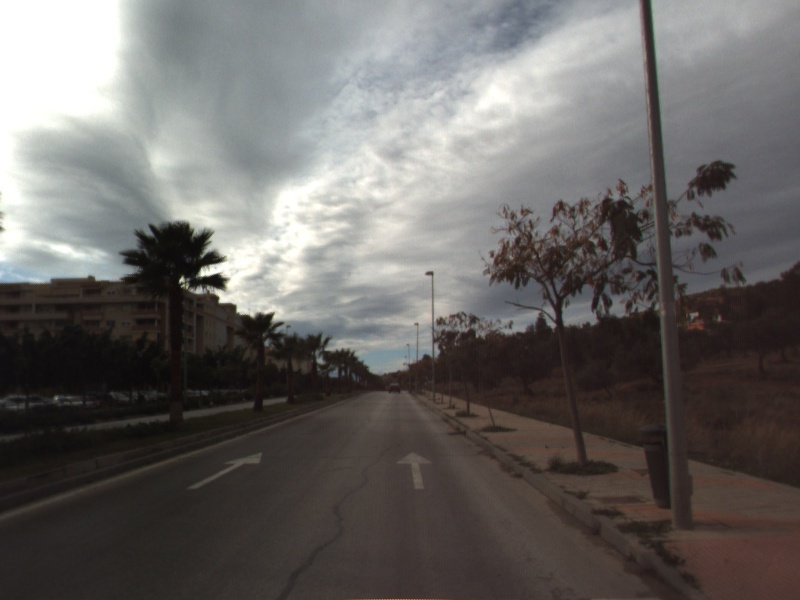STRAIGHT: (184, 450, 264, 492), (394, 449, 435, 491)
